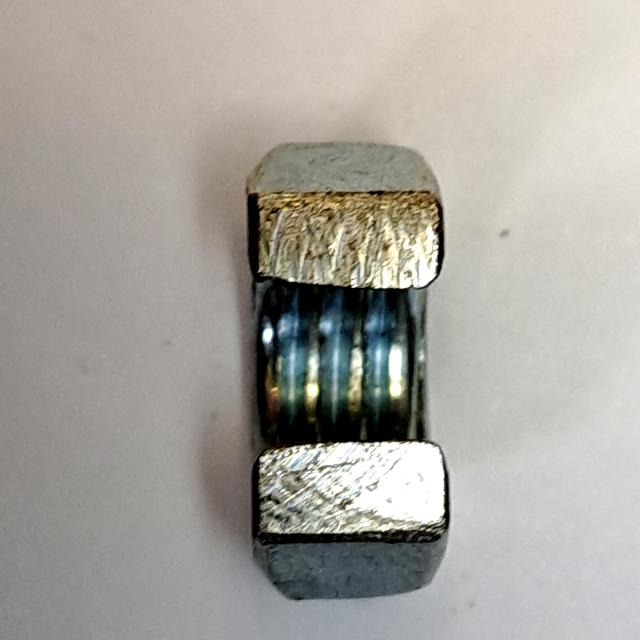Side-Fracture: (220, 123, 474, 609)
